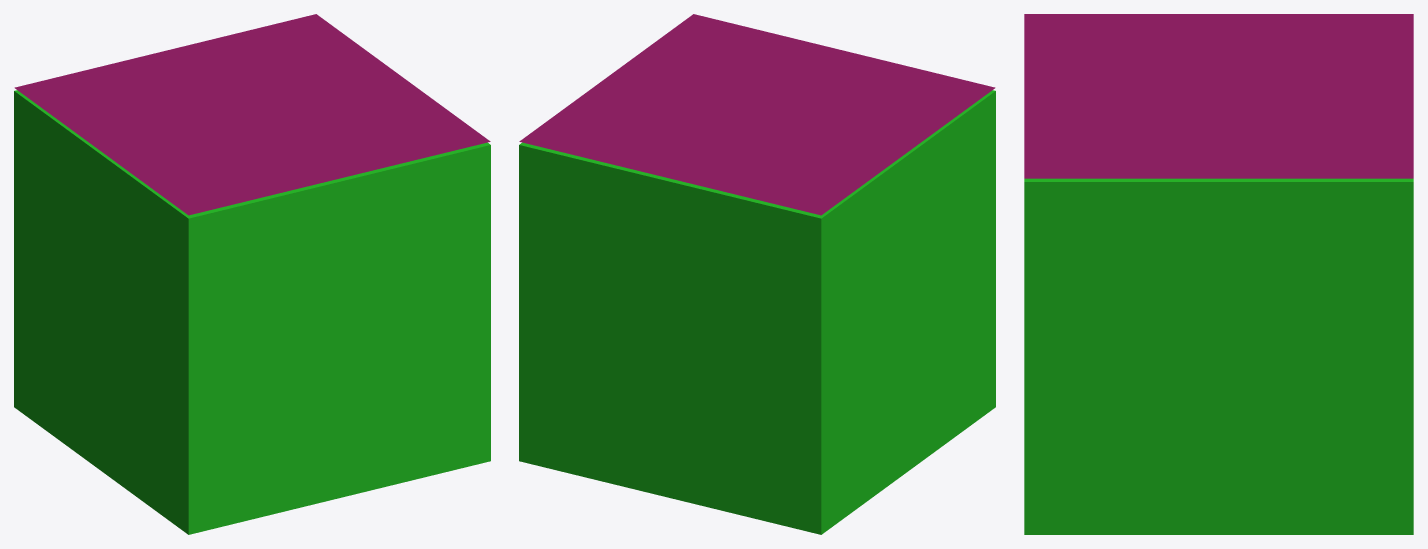
The model's file is LeapMotionCubeButton.FBX.
3 renders of one model, left to right at view 1: azimuth 30°, elevation 25°; view 2: azimuth 150°, elevation 25°; view 3: azimuth 270°, elevation 25°, orthographic. The views are drawn at different scales.
Visible parts, largest first — view 1: LM_3dButton; view 2: LM_3dButton; view 3: LM_3dButton.
Boxes of the visible parts, bbox=[...] form: LM_3dButton: bbox=[14, 14, 490, 534]; LM_3dButton: bbox=[519, 14, 995, 534]; LM_3dButton: bbox=[1024, 14, 1413, 534].
Size of the model in its own units: 100 by 101 by 100.
